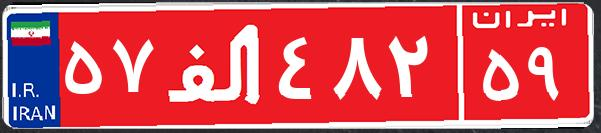2: (385, 28, 445, 110)
4: (273, 28, 330, 110)
5: (57, 26, 110, 107), (475, 38, 525, 113)
7: (110, 28, 158, 105)
8: (330, 28, 385, 110)
9: (525, 38, 570, 115)
الف: (158, 15, 273, 115)
